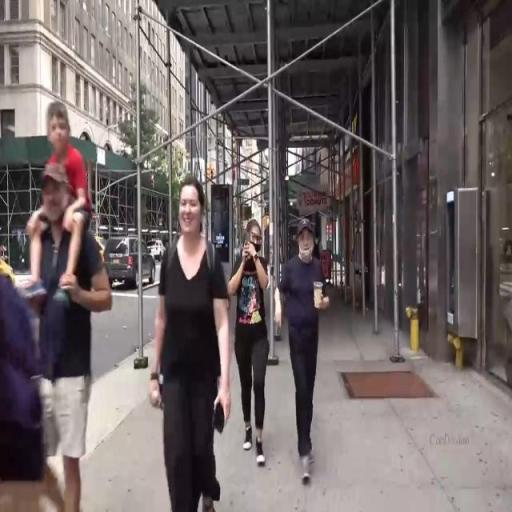person: (31, 95, 114, 511), (156, 175, 232, 512), (278, 219, 333, 512), (1, 246, 49, 512), (232, 220, 273, 489)
